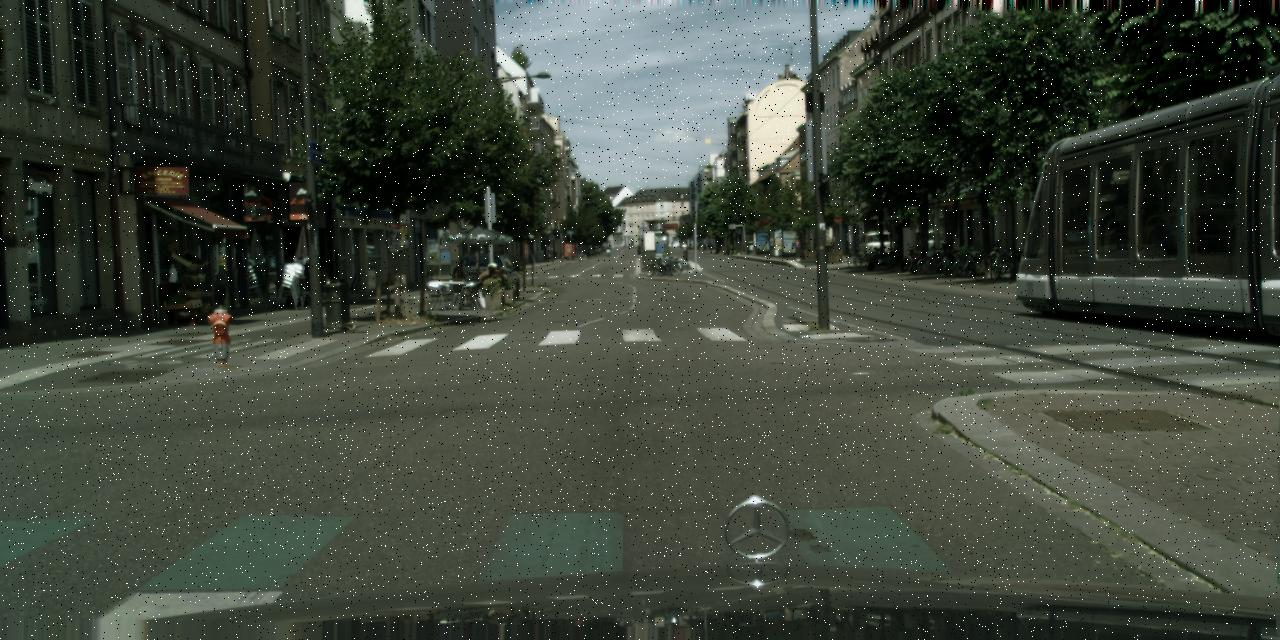ped: (606, 245, 609, 253)
